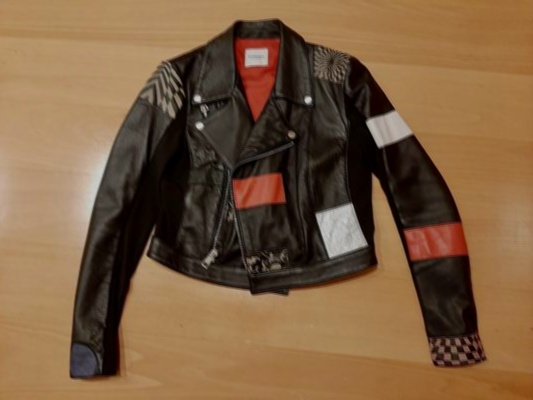Blazer: (56, 23, 500, 393)
